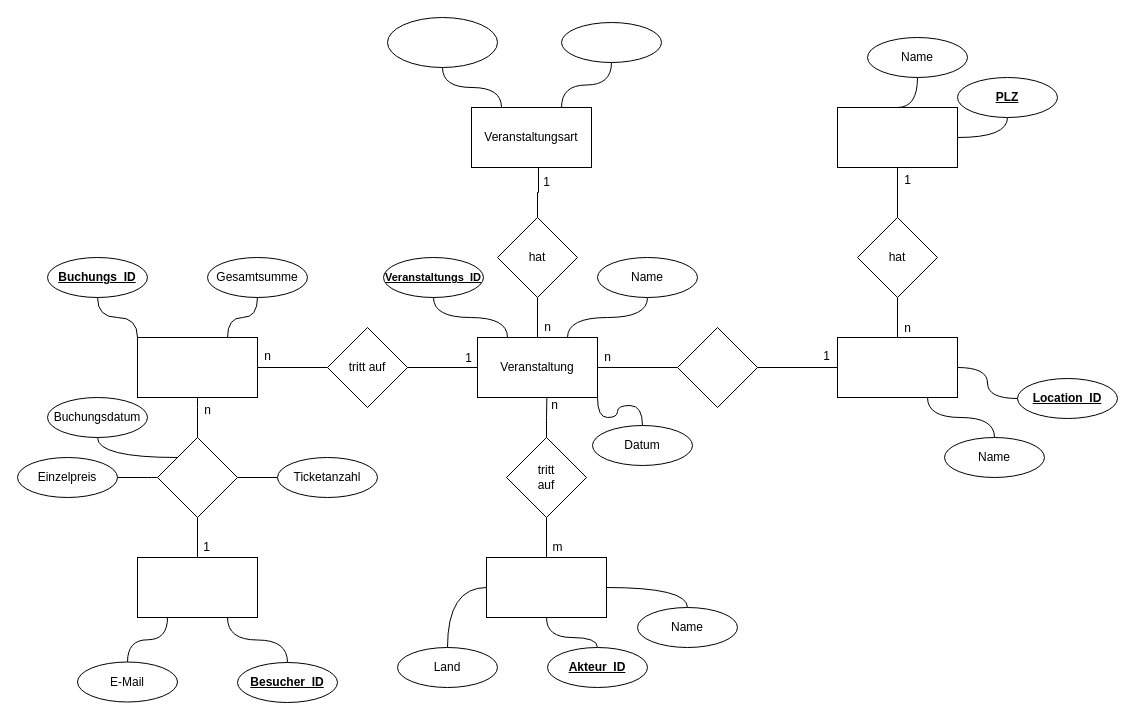
This 1135x720 diagram has some shape labels left out. Each missing label, with the box of its shape:
Akteur: (486, 556, 606, 618)
Besucher: (136, 556, 258, 618)
Bezeichnung: (560, 22, 662, 62)
Buchung: (136, 336, 258, 398)
findet statt: (676, 326, 758, 408)
Location: (836, 336, 958, 398)
Ort: (836, 106, 958, 168)
tätigt: (156, 436, 238, 518)
Veranstaltungsart_ID: (386, 16, 498, 68)
